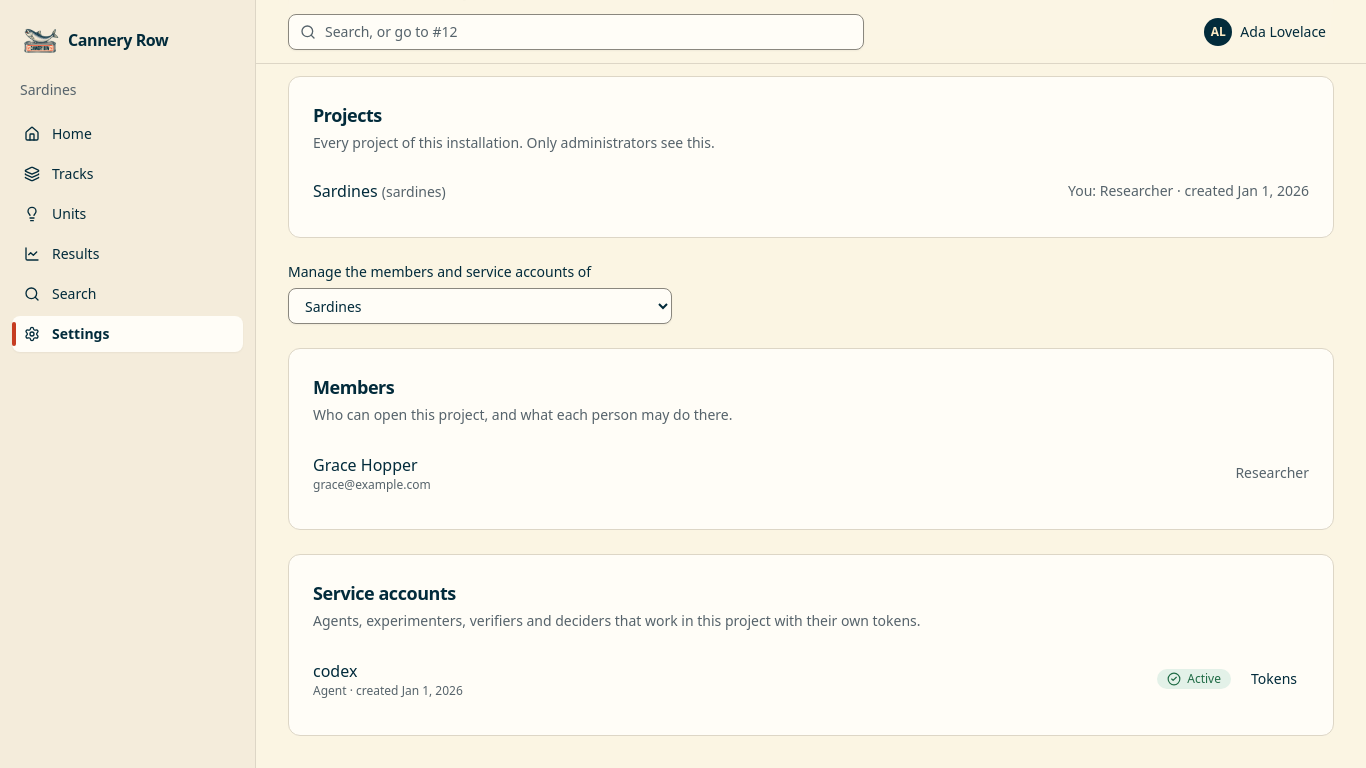
Test case: administration without the write scope › lists projects, members and service accounts, with no action that changes them
(page scrolled)
Expected: the text "Grace Hopper" is shown, [313,453,431,477]
Expected: the text "Researcher" is shown, [1235,463,1309,483]
Click the button "Tokens" at (1274, 679), box [1239,663,1309,695]
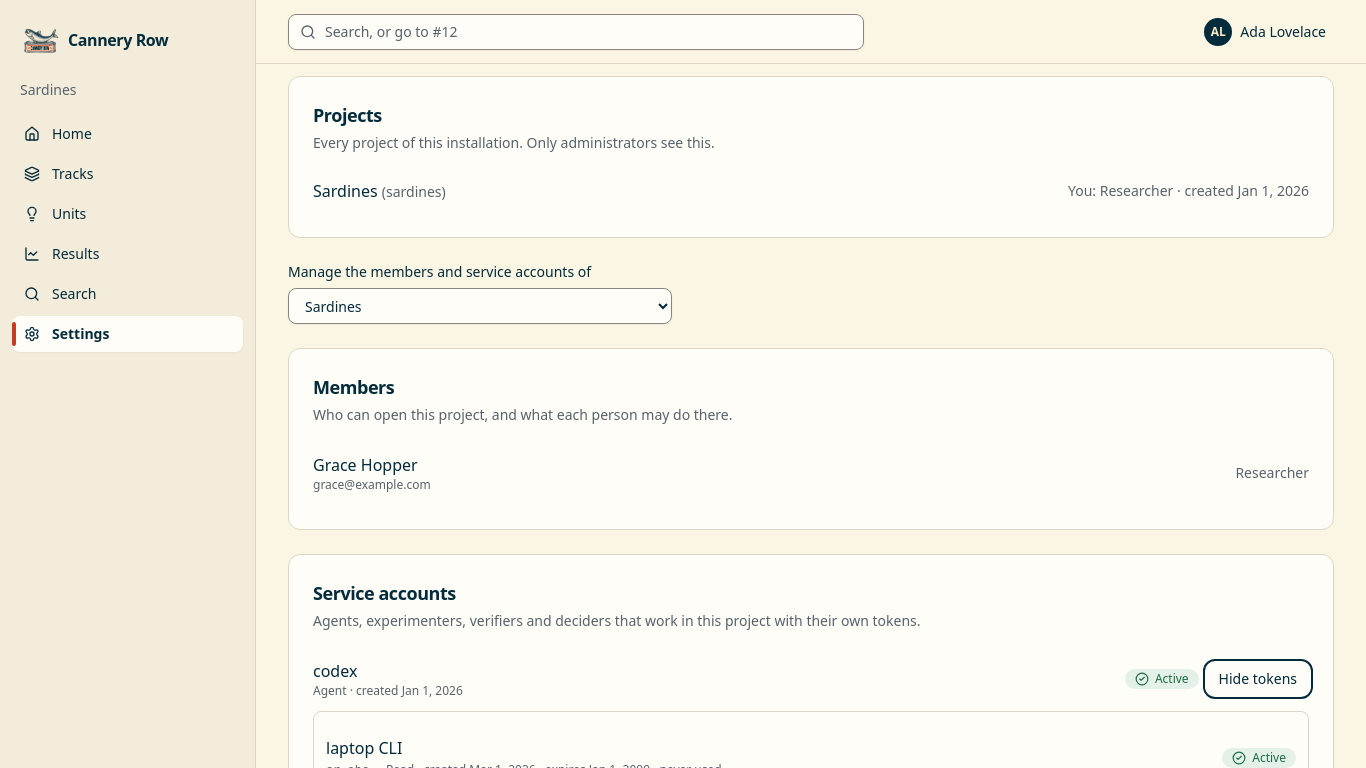
Result: the text "laptop CLI" is shown at [326,737,402,759]
